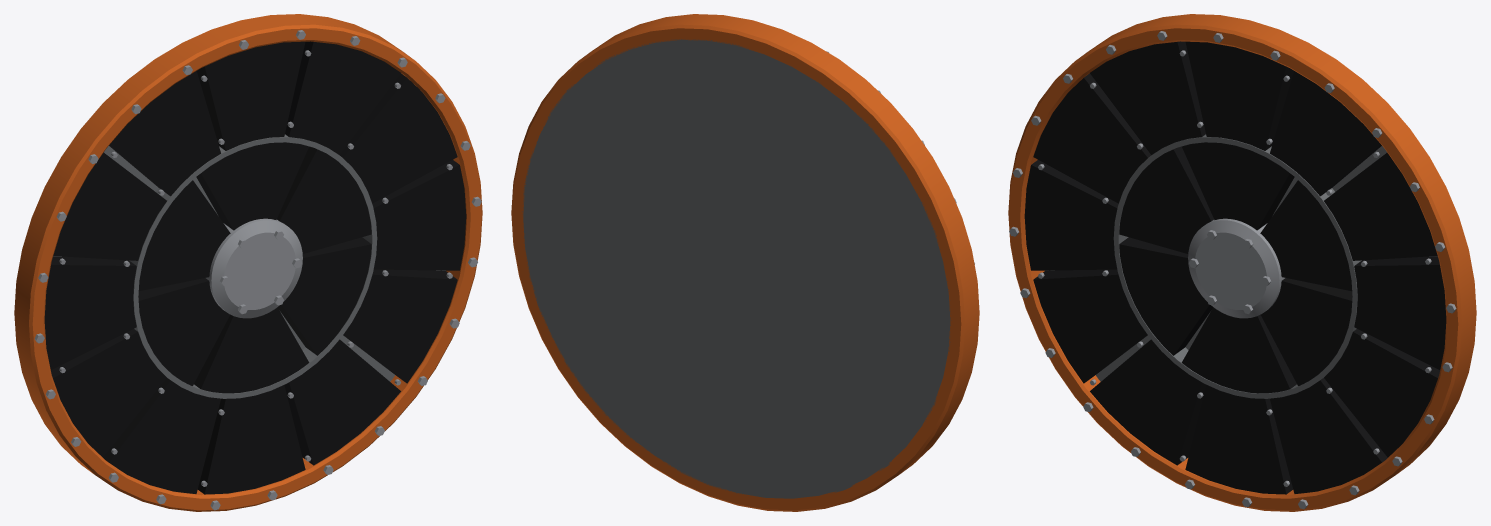
Rendered from engine_hot_emitter_annulus.obj.
3 renders of one model, left to right at view 1: azimuth 30°, elevation 25°; view 2: azimuth 150°, elevation 25°; view 3: azimuth 330°, elevation 25°, orthographic.
Visible parts, largest first — view 1: engine_hot_emitter_annulus; view 2: engine_hot_emitter_annulus; view 3: engine_hot_emitter_annulus.
Boxes of the visible parts, box(x1,y1,x2,y2) form: engine_hot_emitter_annulus: box(14, 14, 482, 511); engine_hot_emitter_annulus: box(511, 14, 979, 511); engine_hot_emitter_annulus: box(1008, 14, 1476, 511).
Bounding box in the file's own units: 3.77 × 3.77 × 0.32.
